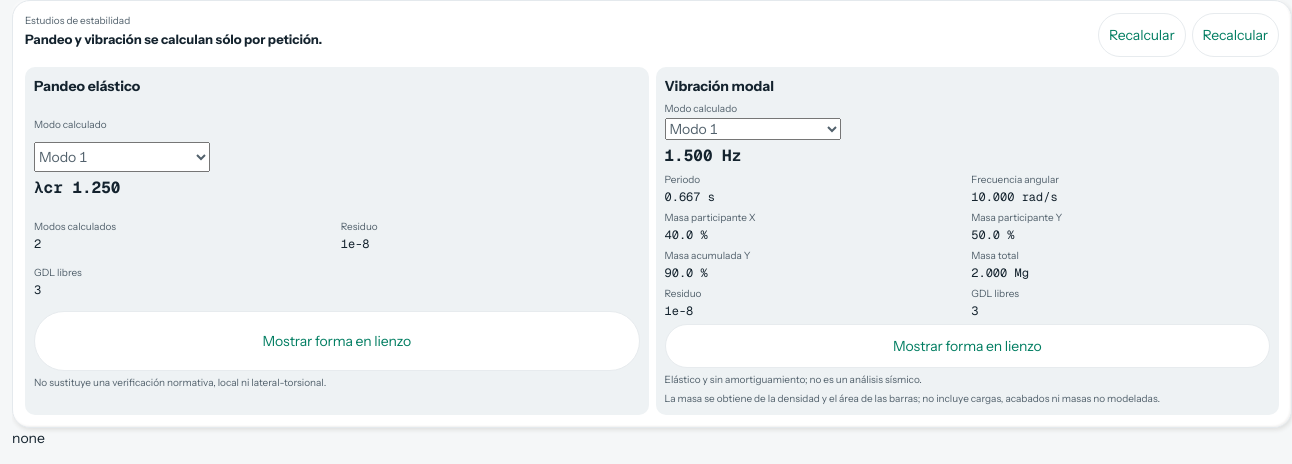
Test case: StabilityStudiesCard › lets the user inspect a selected buckling and modal mode rather than only the first one
The width and height of the screenshot is (1292, 464).
Expected: the text "λcr 1.250" is shown, [34,177,120,198]
Expected: the text "1.500 Hz" is shown, [664,145,741,166]
Select "Modo 2" in the dropdown labelled "Modo calculado" below "Pandeo elástico": (122, 157) [34,142,210,172]
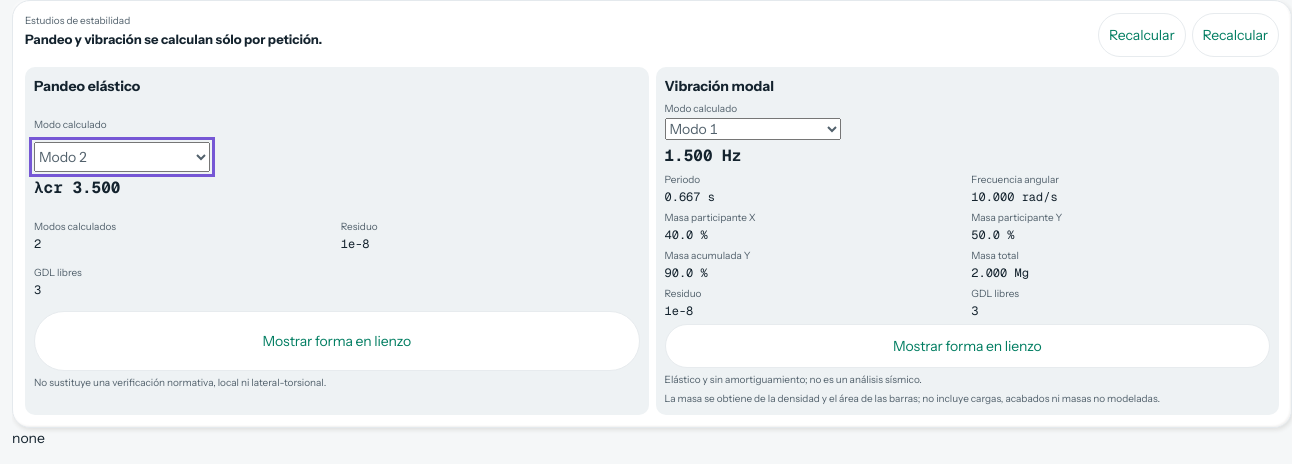
Select "Modo 2" in the dropdown labelled "Modo calculado" below "Vibración modal": (752, 129) [664,118,840,140]
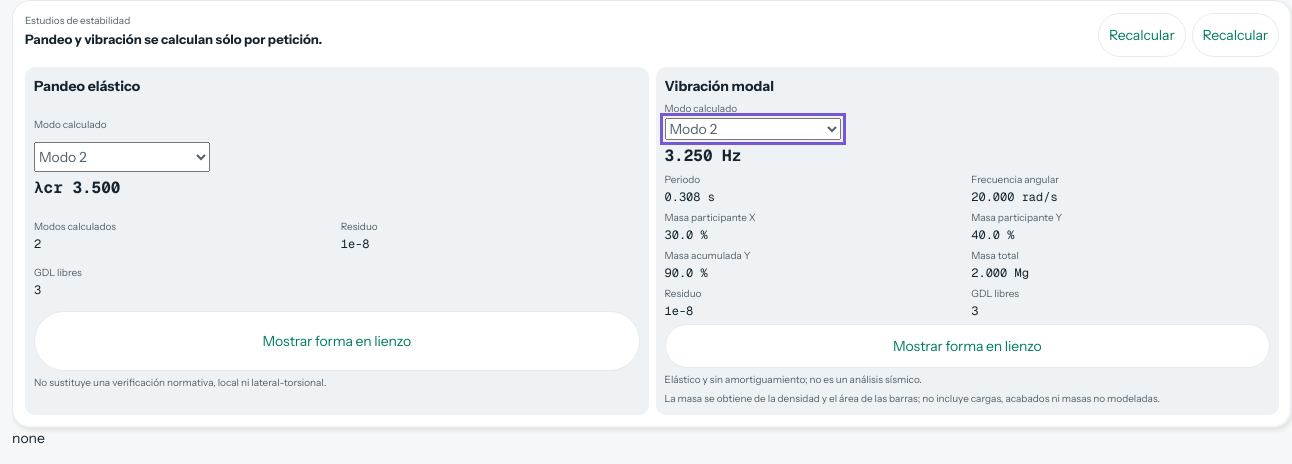
Now the text "λcr 3.500" is shown, box [34,177,120,198]
Now the text "3.250 Hz" is shown, box [664,145,741,166]
Now the text "0.308 s" is shown, box [664,189,715,205]
Click the button "Mostrar forma en lienzo" below "Modos calculados": (337, 341) [34,311,640,371]
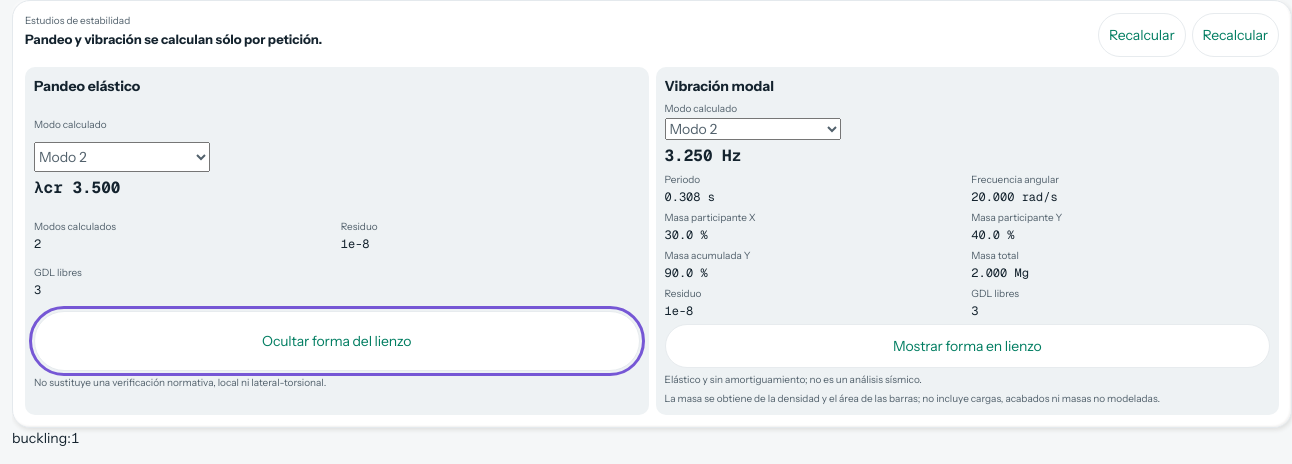
Now the text named "Forma modal en lienzo" reads "buckling:1", box [12,429,79,447]
